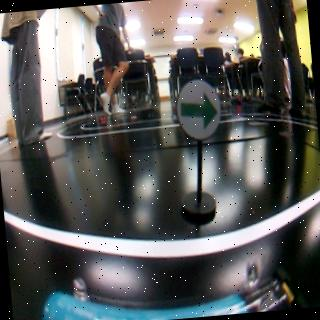right: (175, 77, 220, 141)
